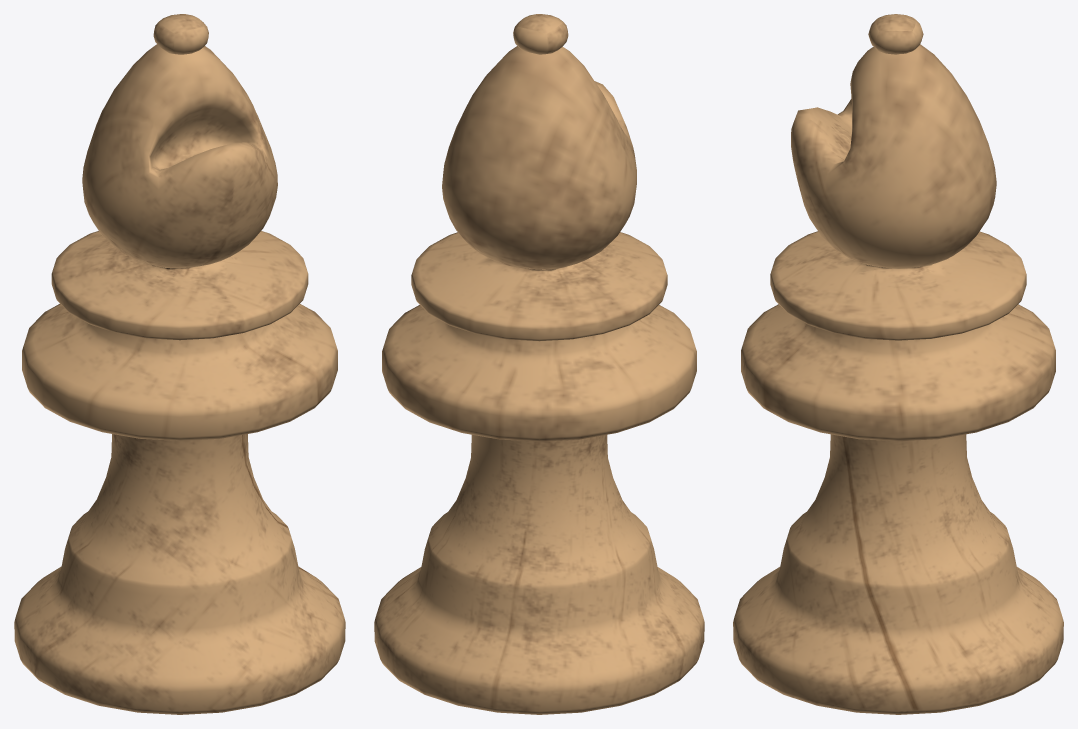
The model's file is GEO_WhiteBishop_02.gltf.
3 views of the same model, side by side, from view 1: azimuth 30°, elevation 25°; view 2: azimuth 150°, elevation 25°; view 3: azimuth 270°, elevation 25° (orthographic).
Parts seen in each view (by area): view 1: GEO_WhiteBishop_02; view 2: GEO_WhiteBishop_02; view 3: GEO_WhiteBishop_02.
Part boxes in pixels (x1,y1,x2,y2): GEO_WhiteBishop_02: (14,14,345,714); GEO_WhiteBishop_02: (374,14,704,714); GEO_WhiteBishop_02: (733,14,1063,714).
Size of the model in its own units: 0.0372 by 0.0782 by 0.0372.
